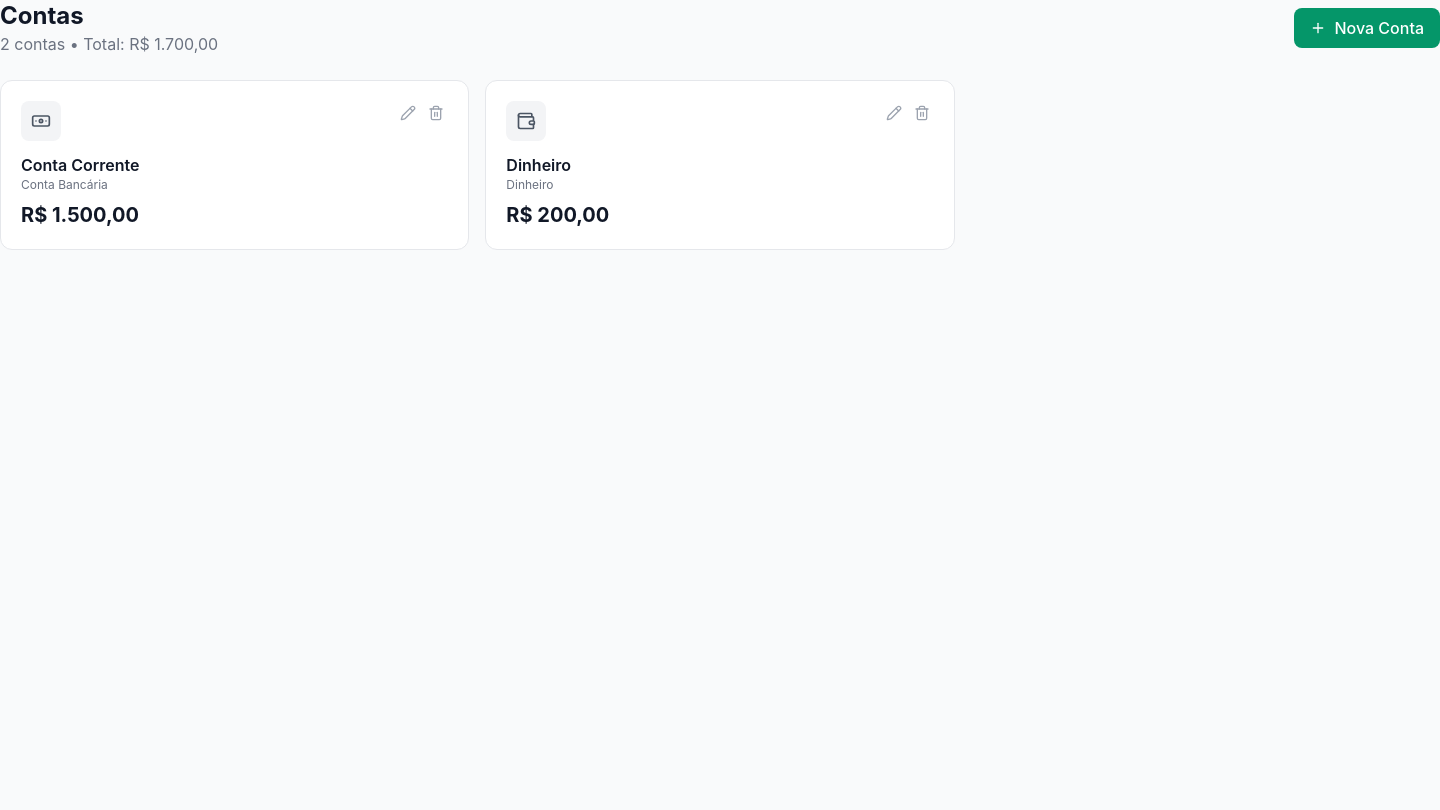
Test: Página de Contas › abre modal de nova conta
Click the button "Nova Conta" at {"x": 1367, "y": 28}, box [1294,8,1439,48]
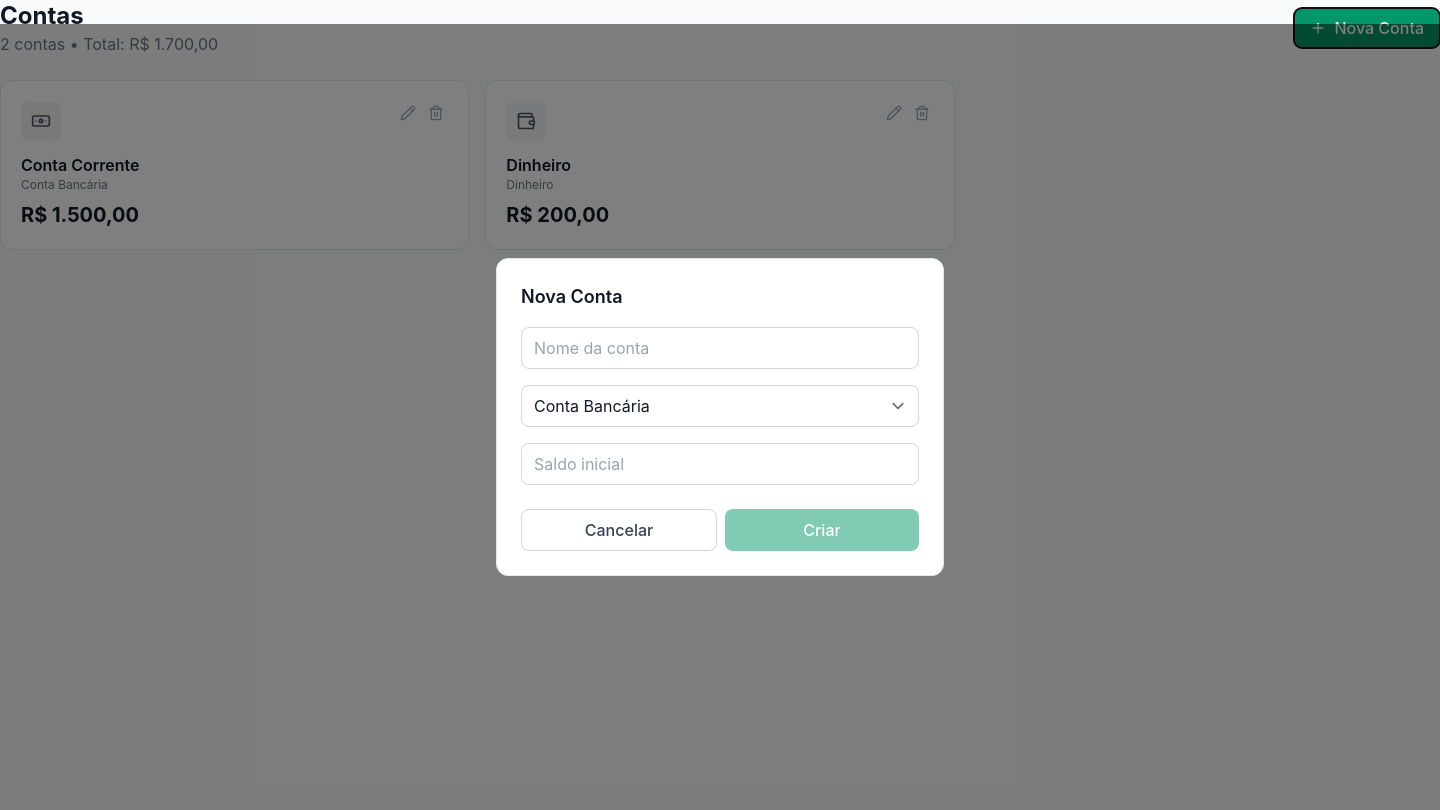
expect the heading "Nova Conta" is shown: met, box [521,286,623,307]
